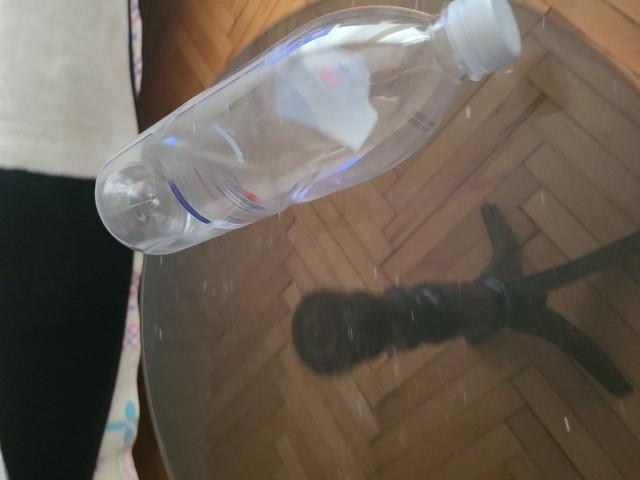plastic_bottle: (299, 71, 640, 390)
